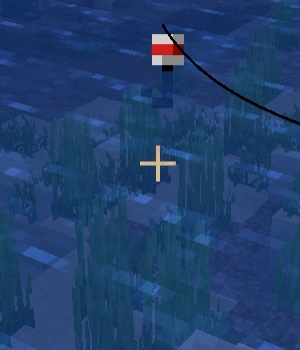up: (144, 25, 192, 108)
